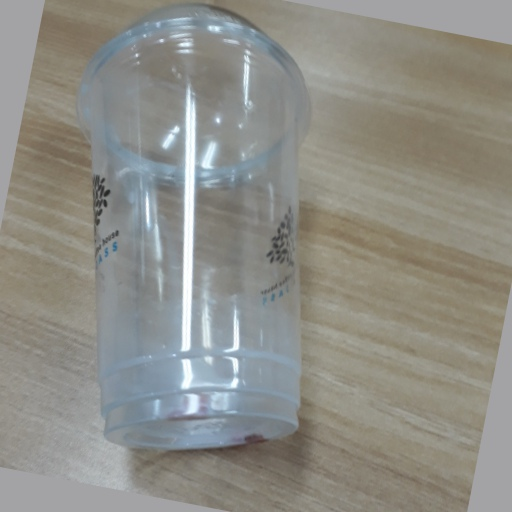Plastic_2: (72, 1, 321, 453)
